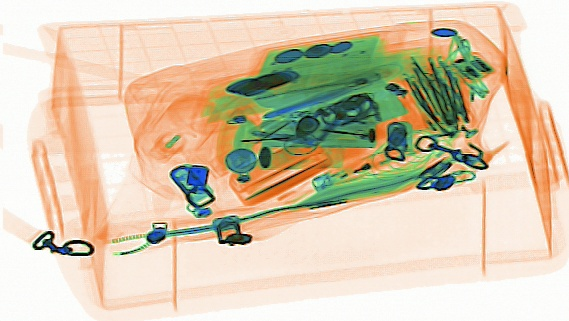lighter: (310, 142, 421, 193)
